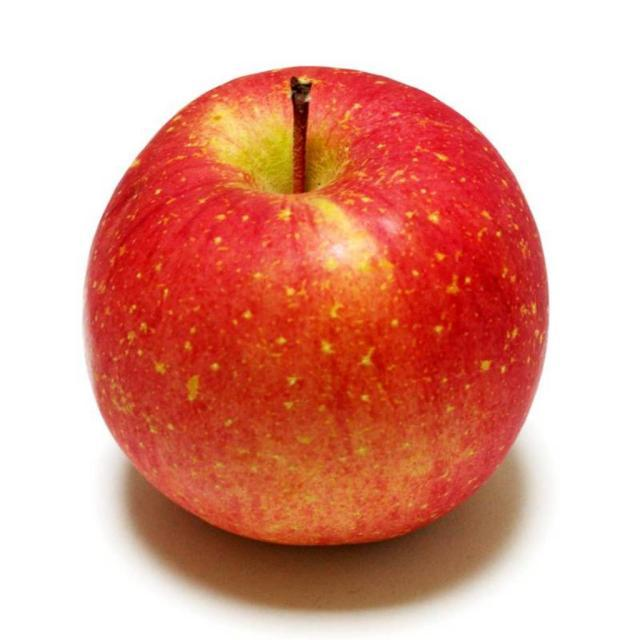Apple: (82, 65, 550, 548)
